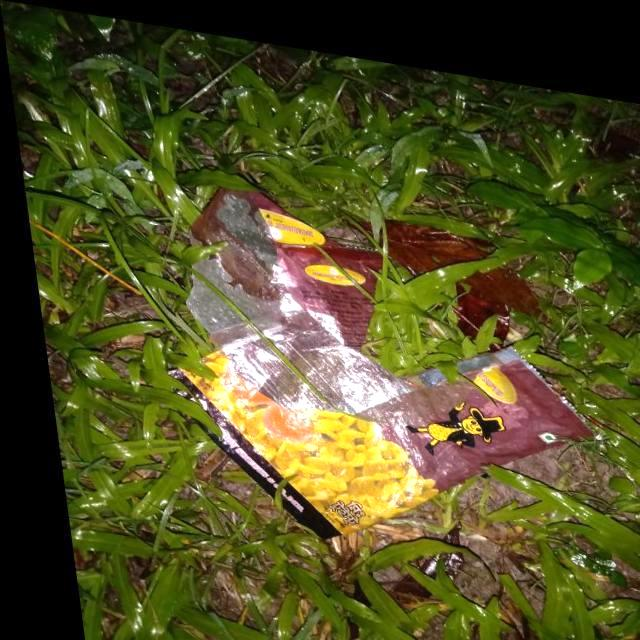packet: (154, 176, 587, 561)
